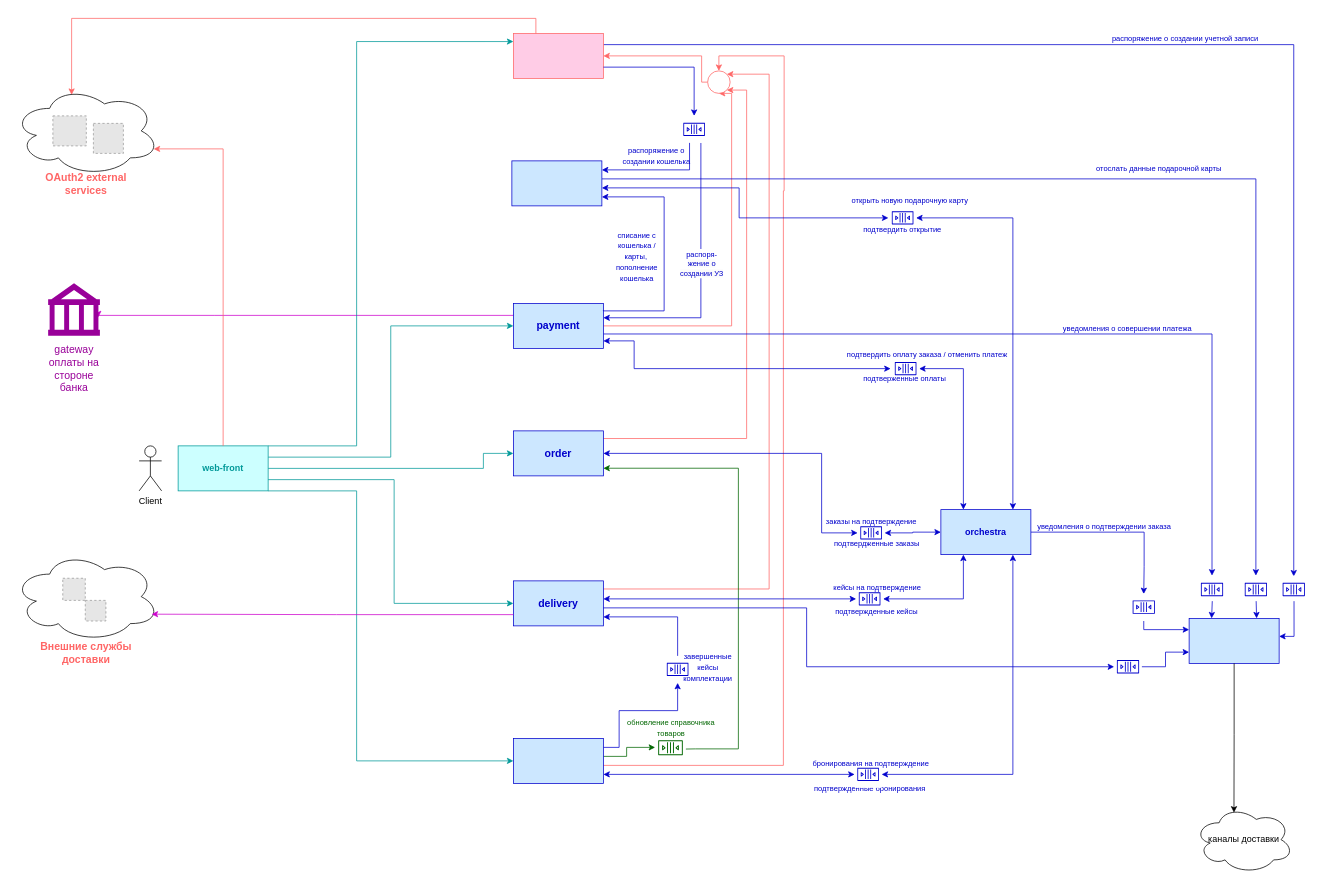
Some shapes in this 1322 by 887 pixel diagram are drawn without their labels. Grey dashed boxes stand in for pictures. The shapes that lost their labels are listed below. From the top down, each one's centre as x and y in pixels, then its label:
At point 558,55: "auth".
At point 556,183: "billing".
At point 1233,640: "notification".
At point 1127,666: "уведомления о доставке".
At point 558,760: "store".
